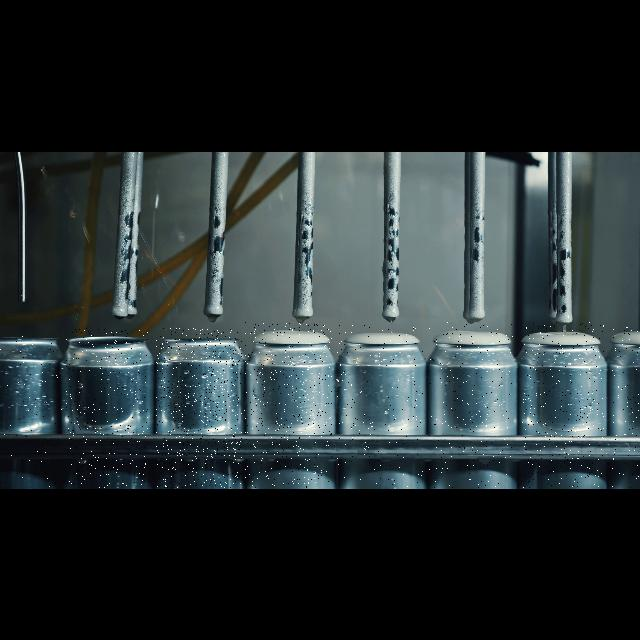empty: (156, 328, 242, 488), (66, 328, 148, 488), (0, 328, 62, 488)
full: (244, 322, 332, 488), (337, 324, 423, 488), (429, 322, 513, 488), (522, 322, 604, 488), (610, 322, 640, 488)
